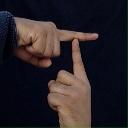hand: (12, 15, 99, 68), (46, 37, 92, 127)
